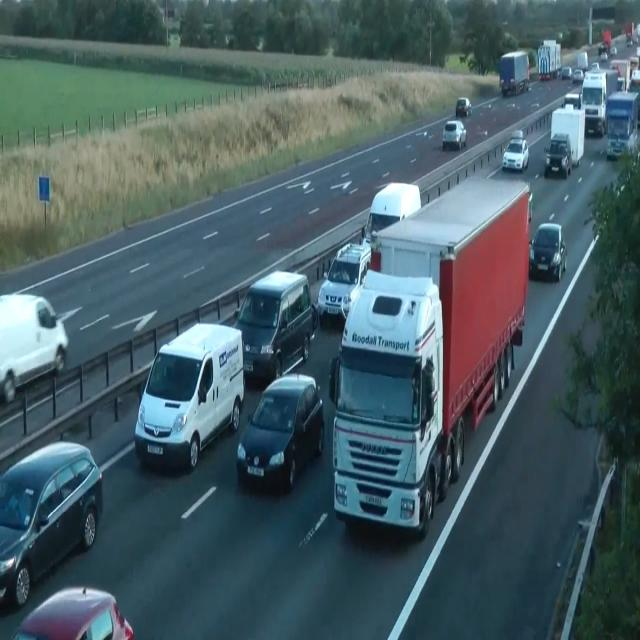bus: (0, 440, 103, 607), (236, 372, 324, 492), (12, 586, 134, 639), (529, 222, 567, 282), (502, 137, 528, 171), (442, 120, 466, 150), (562, 92, 580, 110), (456, 97, 472, 116), (572, 68, 584, 82), (598, 42, 610, 54), (561, 66, 571, 79), (528, 191, 532, 221), (616, 76, 624, 90), (590, 61, 600, 71), (610, 60, 619, 70), (609, 45, 617, 55), (600, 51, 608, 60), (626, 38, 632, 46)
car: (328, 267, 444, 537)
jeep: (133, 321, 244, 471), (233, 268, 315, 379), (0, 291, 68, 404), (317, 241, 371, 323), (360, 181, 421, 250), (544, 131, 572, 177)
minibus: (328, 174, 532, 537), (604, 90, 640, 160), (550, 103, 585, 167), (579, 69, 607, 135), (499, 51, 530, 96), (536, 39, 562, 80)
